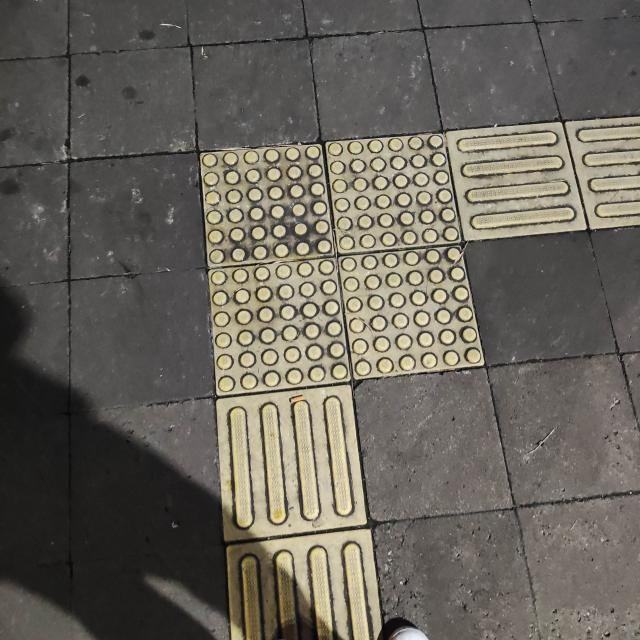kanan: (156, 70, 640, 471)
